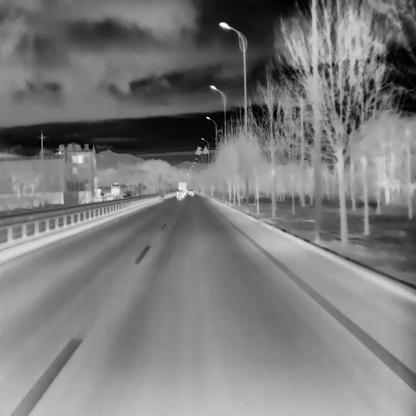car: (118, 189, 131, 199), (175, 188, 184, 198), (188, 188, 194, 195)
truck: (178, 181, 186, 196)
